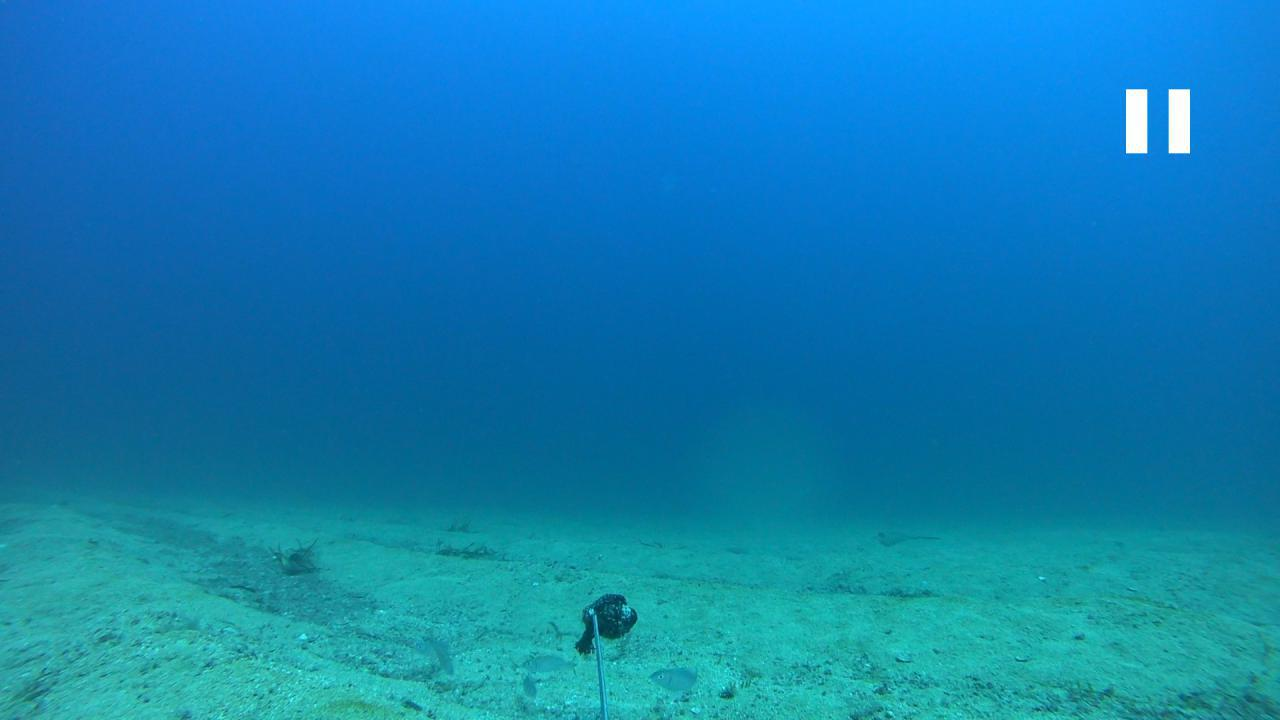dasyatis: (873, 526, 940, 546)
pagellus: (420, 628, 452, 678), (519, 654, 578, 678), (650, 664, 700, 692)
